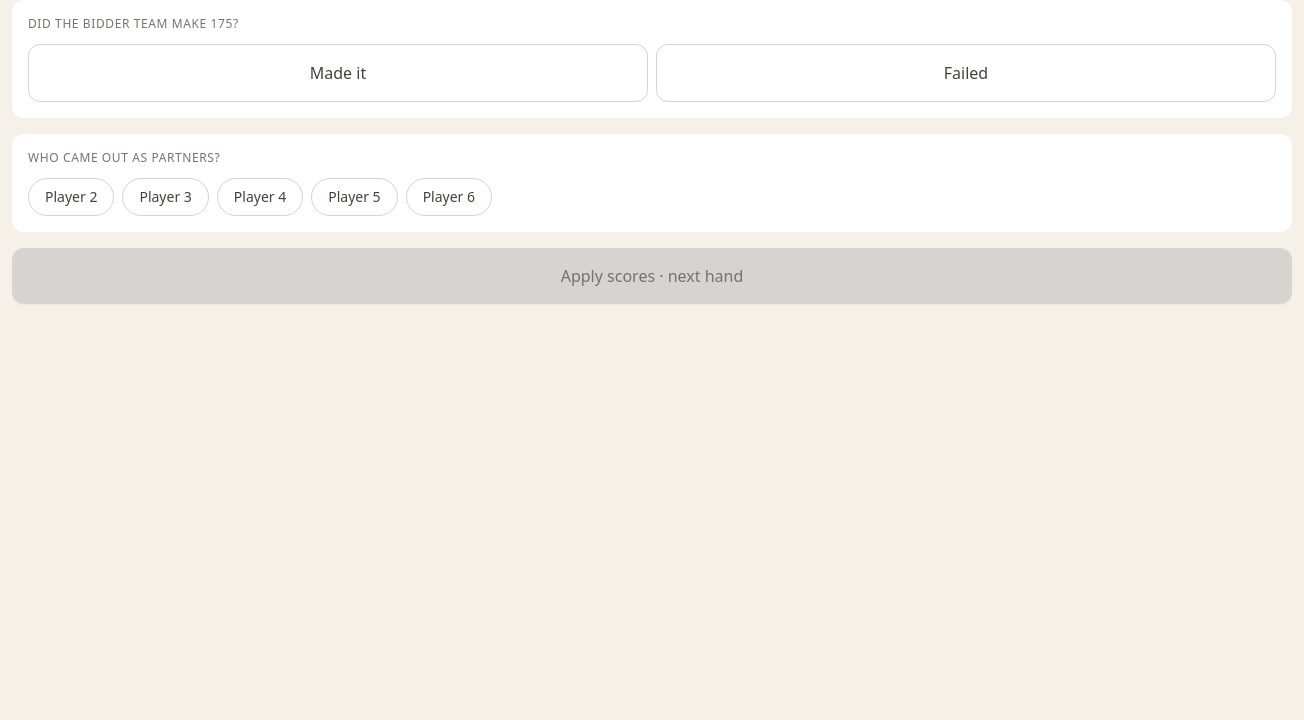
Scenario: HandResultEntry › apply button disabled until Made/Failed picked
Expected: the button "Apply scores · next hand" is disabled, [12,248,1292,304]
Step 1. Click the button "Failed" → (966, 73), box [656,44,1276,102]
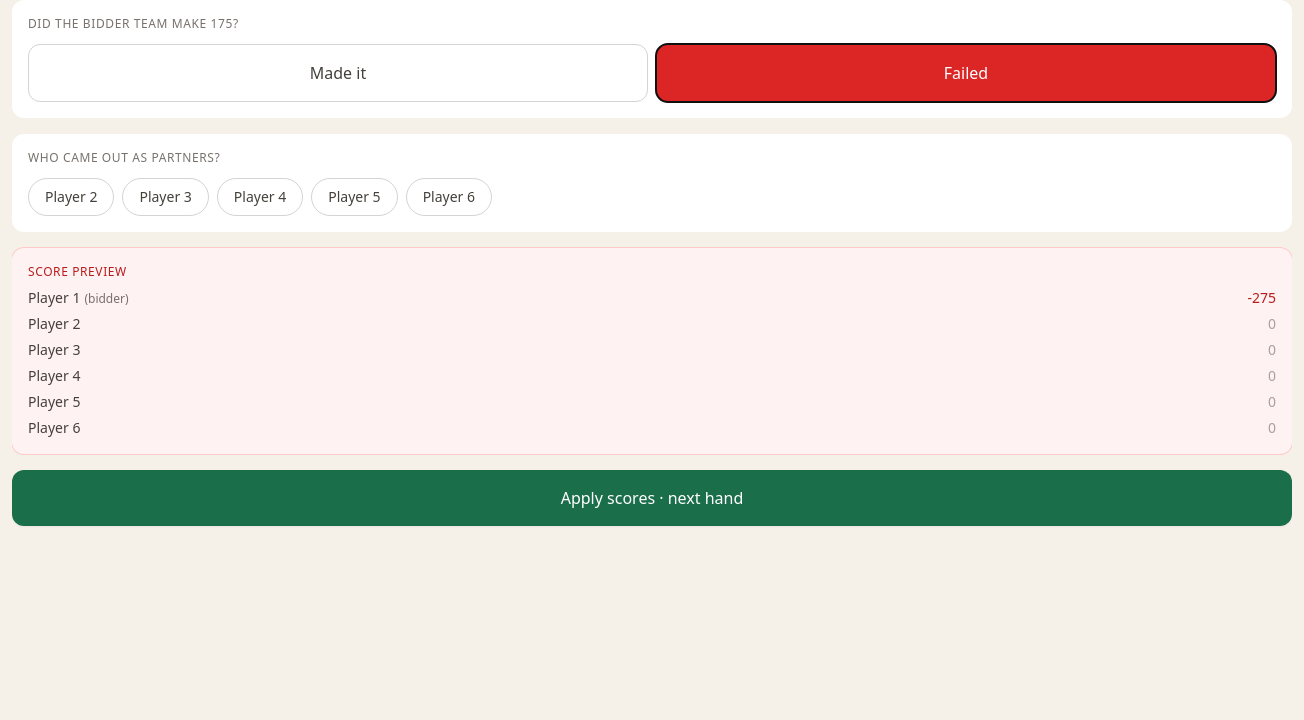
Expected: the button "Apply scores · next hand" is enabled, [12,470,1292,526]
